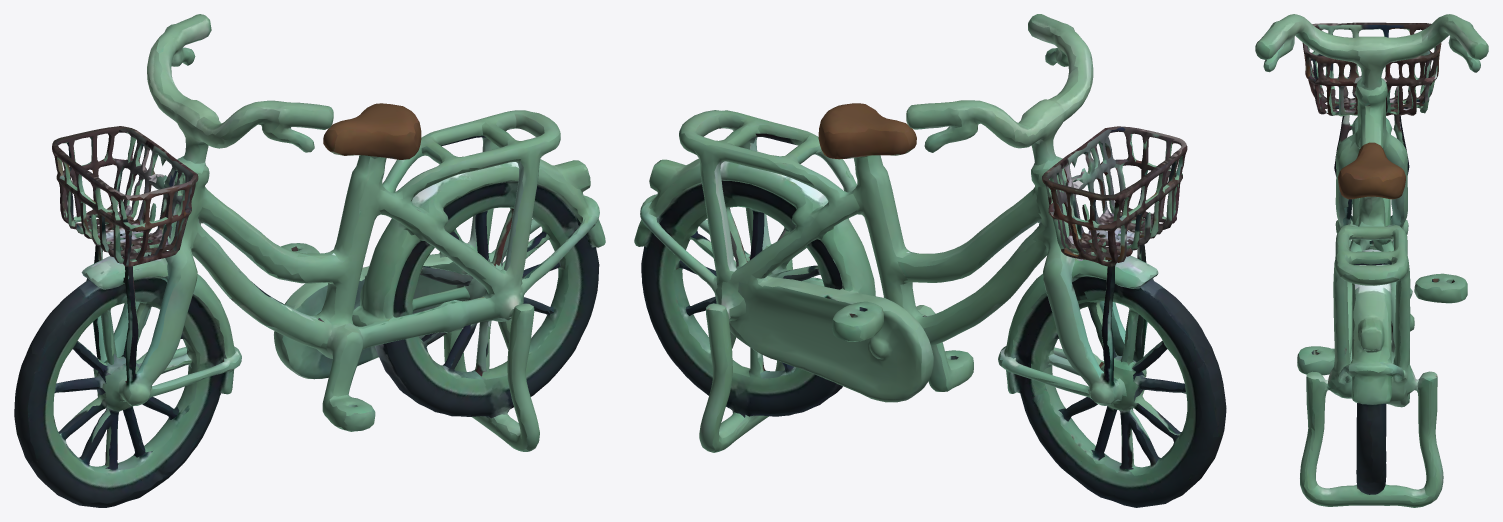
The model's file is bike.glb.
The picture shows the model from 3 angles, left to right: view 1: azimuth 30°, elevation 25°; view 2: azimuth 150°, elevation 25°; view 3: azimuth 270°, elevation 25°; orthographic projection. The views are drawn at different scales.
Visible parts, largest first — view 1: tmp6gr49xmu.ply; view 2: tmp6gr49xmu.ply; view 3: tmp6gr49xmu.ply.
Boxes of the visible parts, x1,y1,x2,y2 form: tmp6gr49xmu.ply: (14, 14, 605, 507); tmp6gr49xmu.ply: (634, 14, 1226, 507); tmp6gr49xmu.ply: (1255, 14, 1488, 507).
Bounding box in the file's own units: 0.9876 × 0.7017 × 0.3978.
1 material, 1 textured.
